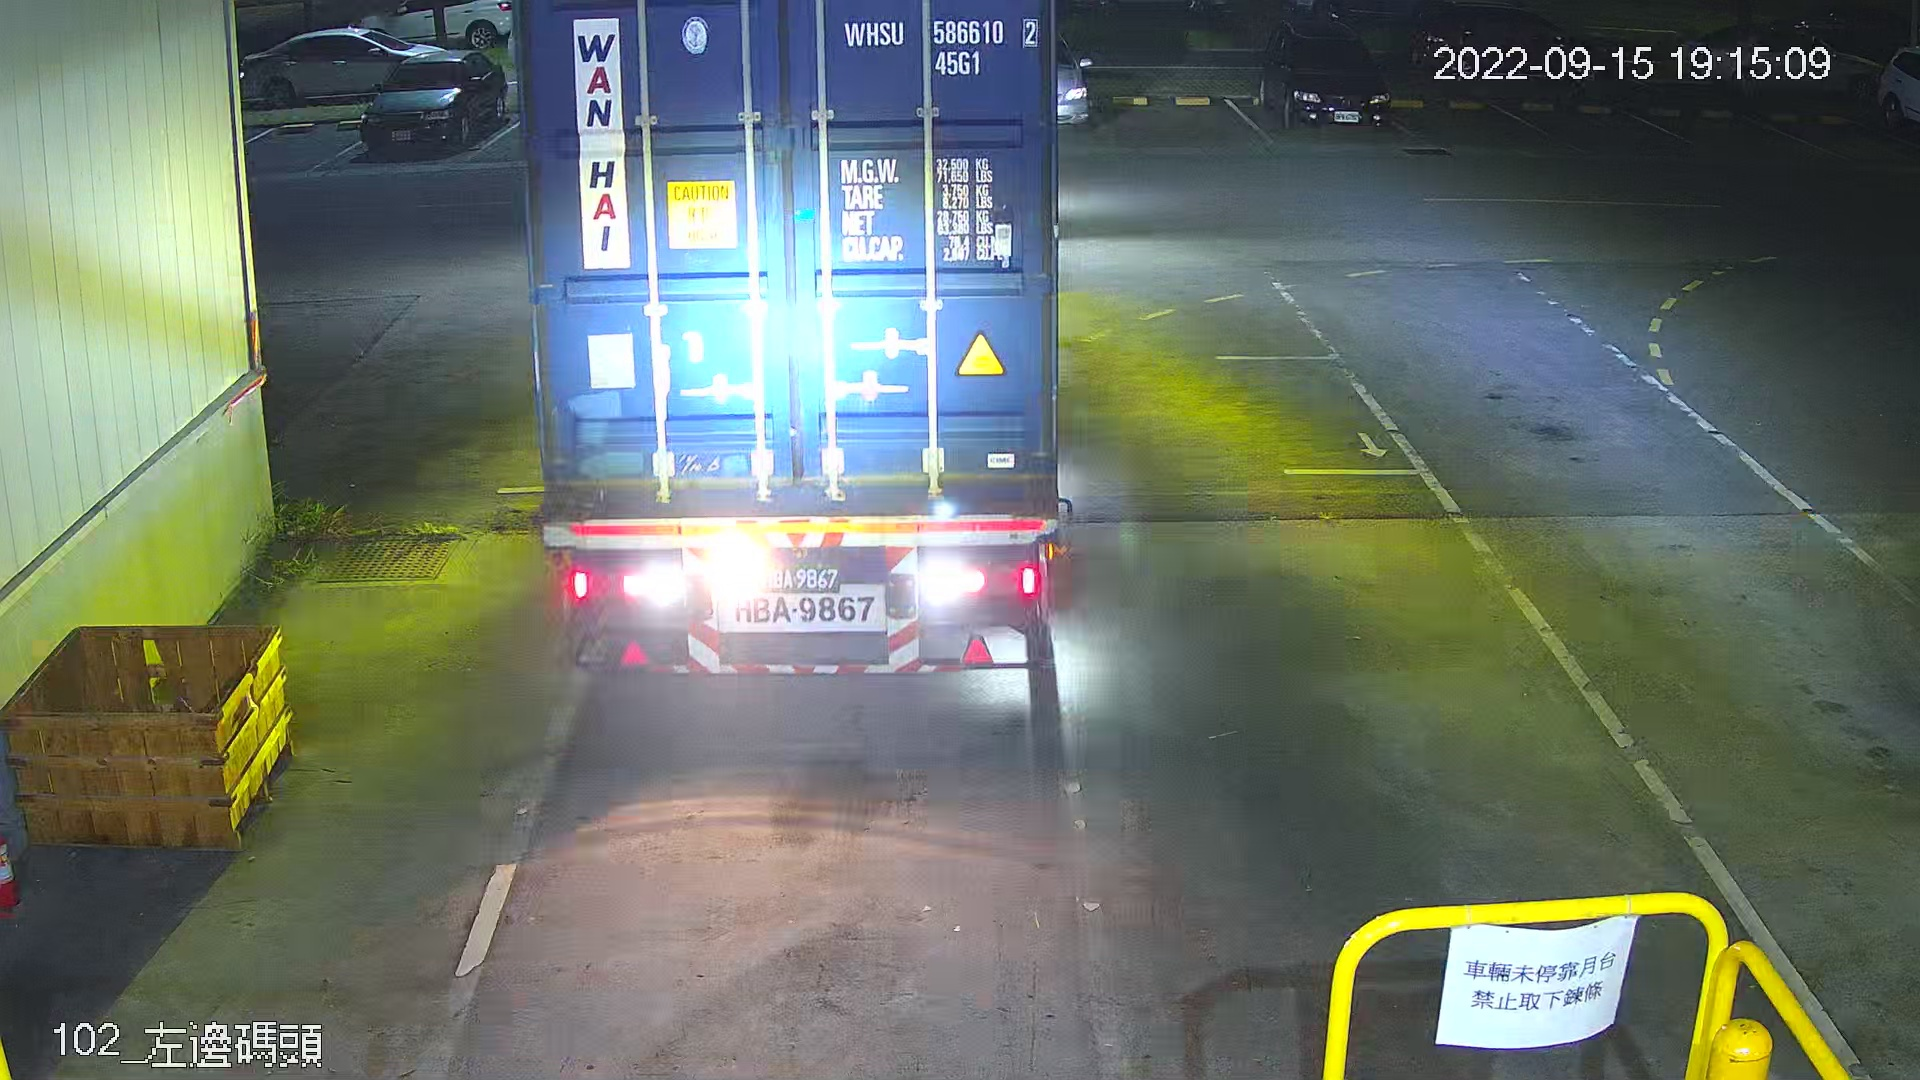container: (835, 11, 1044, 83)
